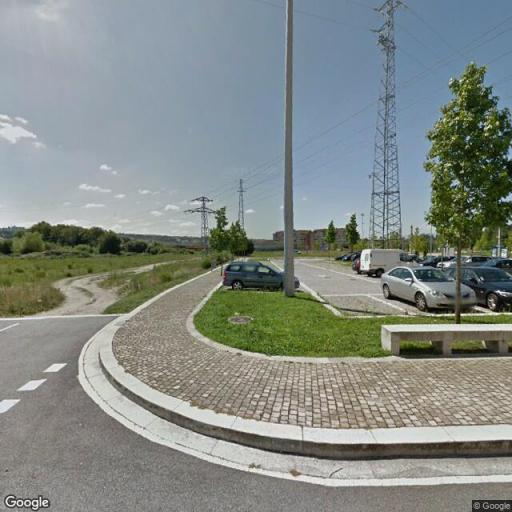ss_2: (188, 193, 220, 254)
ss_4: (368, 0, 410, 247), (234, 177, 249, 228)
